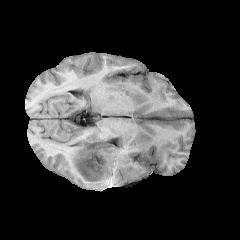glioma: (71, 141, 129, 186)
